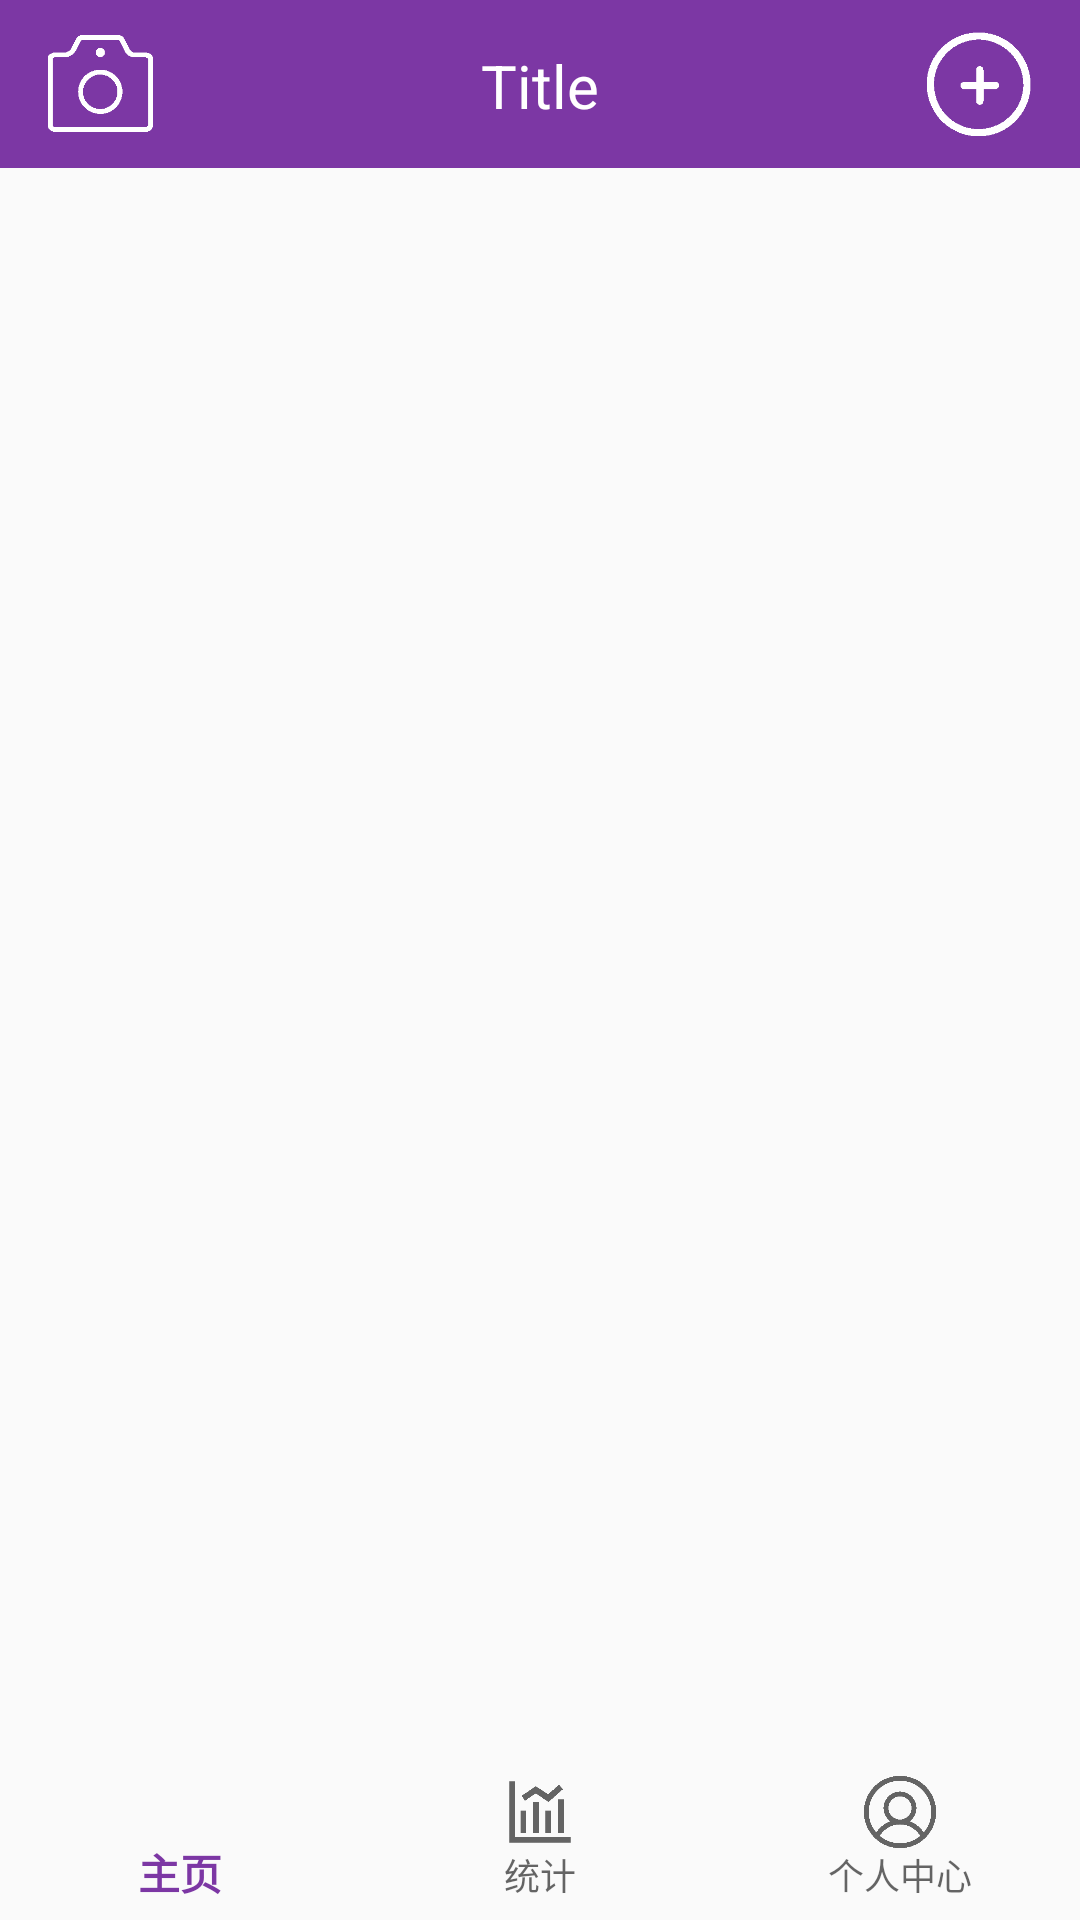

Locate icon controls on the screen. Image size 1080px x 1920px, boxes as (x1,y1,x2,y2).
add: (927,32,1031,136)
photo: (48,35,153,132)
